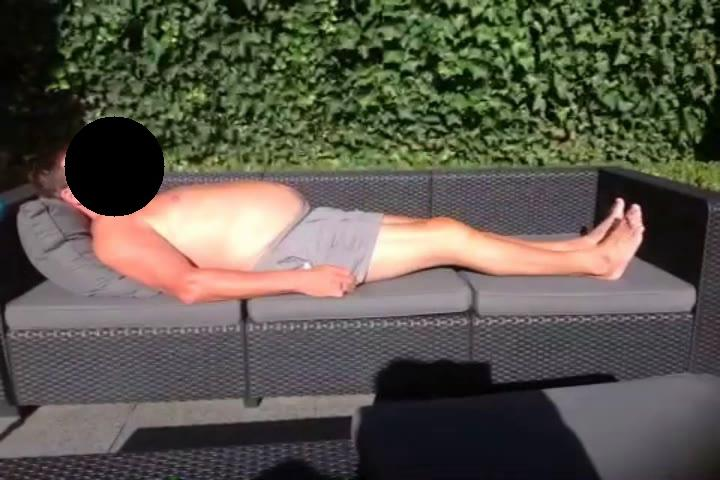lower_body: (278, 198, 648, 285)
